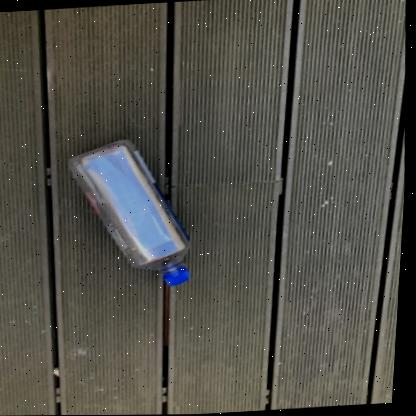Plastic: (69, 139, 192, 285)
